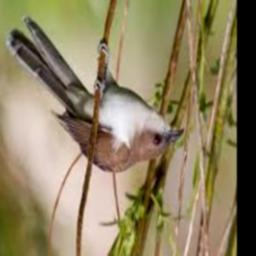Cuckoo: (5, 16, 184, 173)
